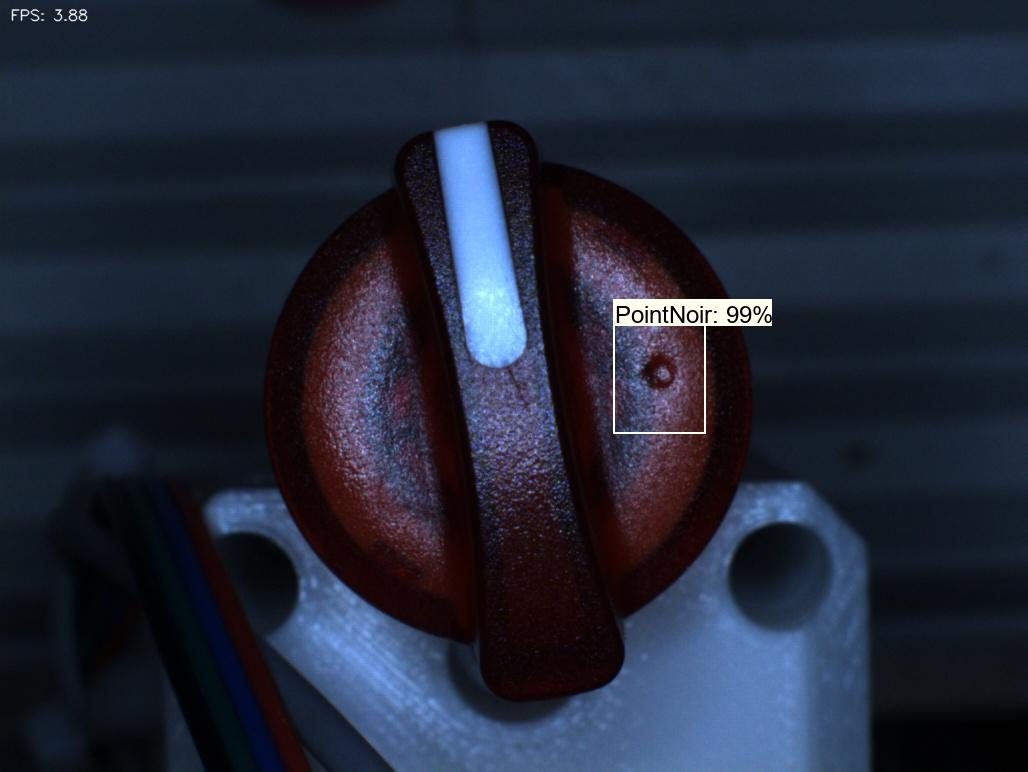Choc: (620, 333, 702, 415)
